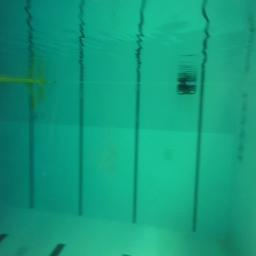front: (177, 82, 196, 94)
